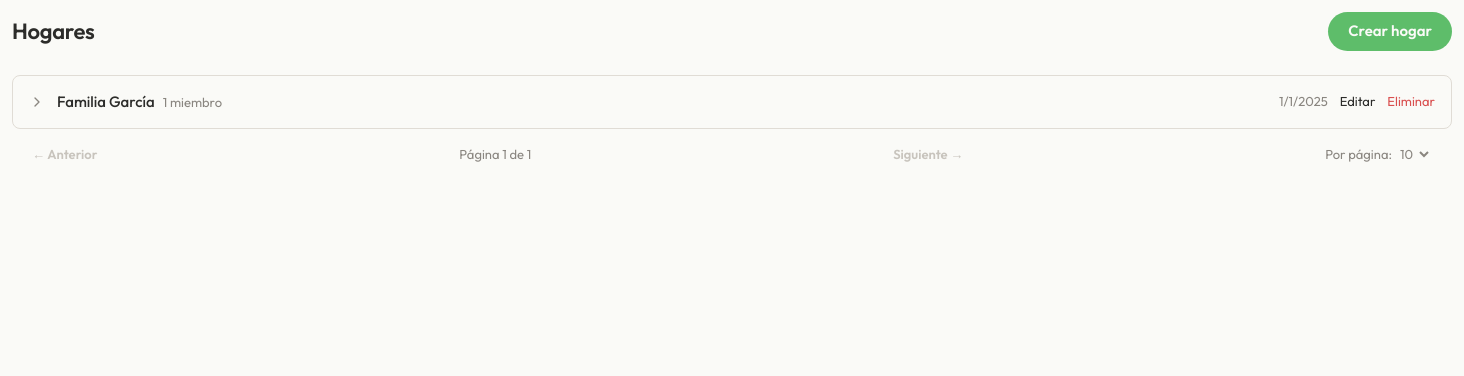
Test: Household members (add member flow) › shows member delete confirmation when member Eliminar is clicked
Expected: the text "Familia García" is shown, [57, 92, 155, 111]
Click the button named "expandir": (37, 102) [29, 94, 45, 110]
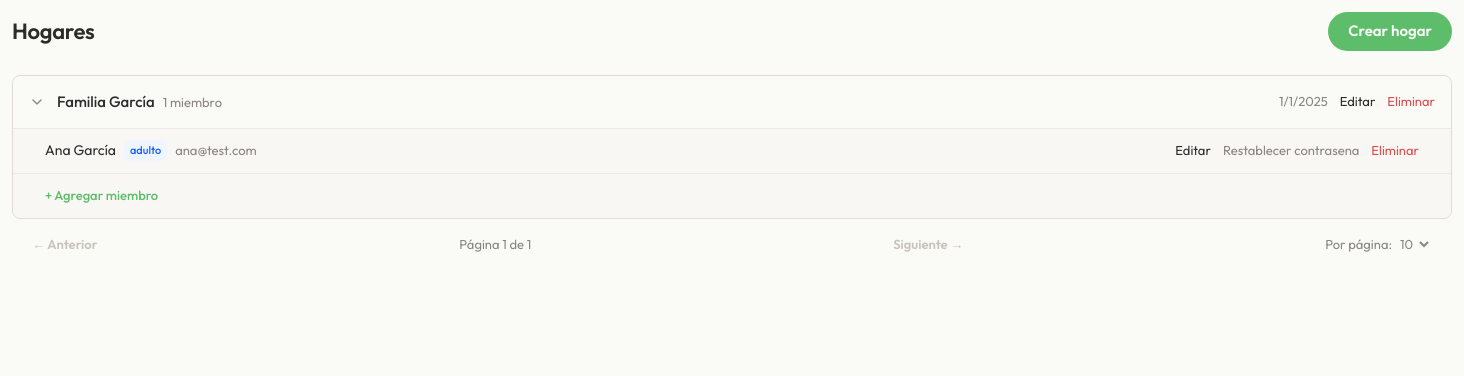
Expected: the text "Ana García" is shown, [45, 140, 116, 161]
Click the button "Eliminar" in the row of "ana@test.com": (1395, 151) [1371, 141, 1419, 160]
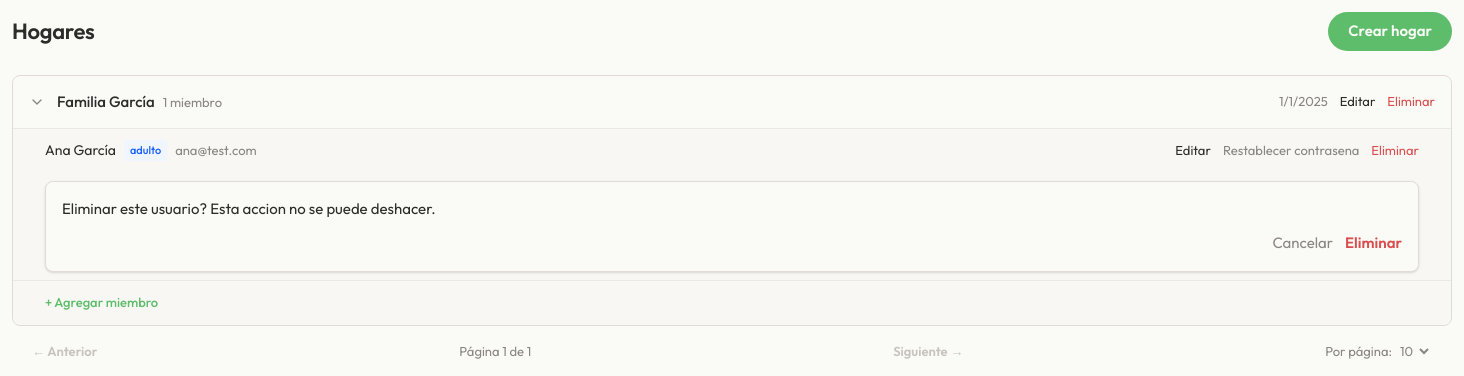
Expected: the text "Eliminar este usuario? Esta accion no se puede deshacer." is shown, [62, 198, 436, 218]
